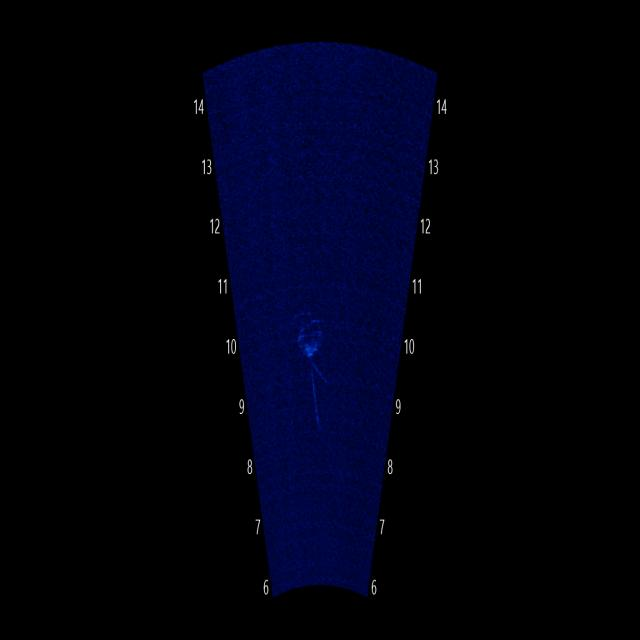circle: (287, 288, 328, 362)
